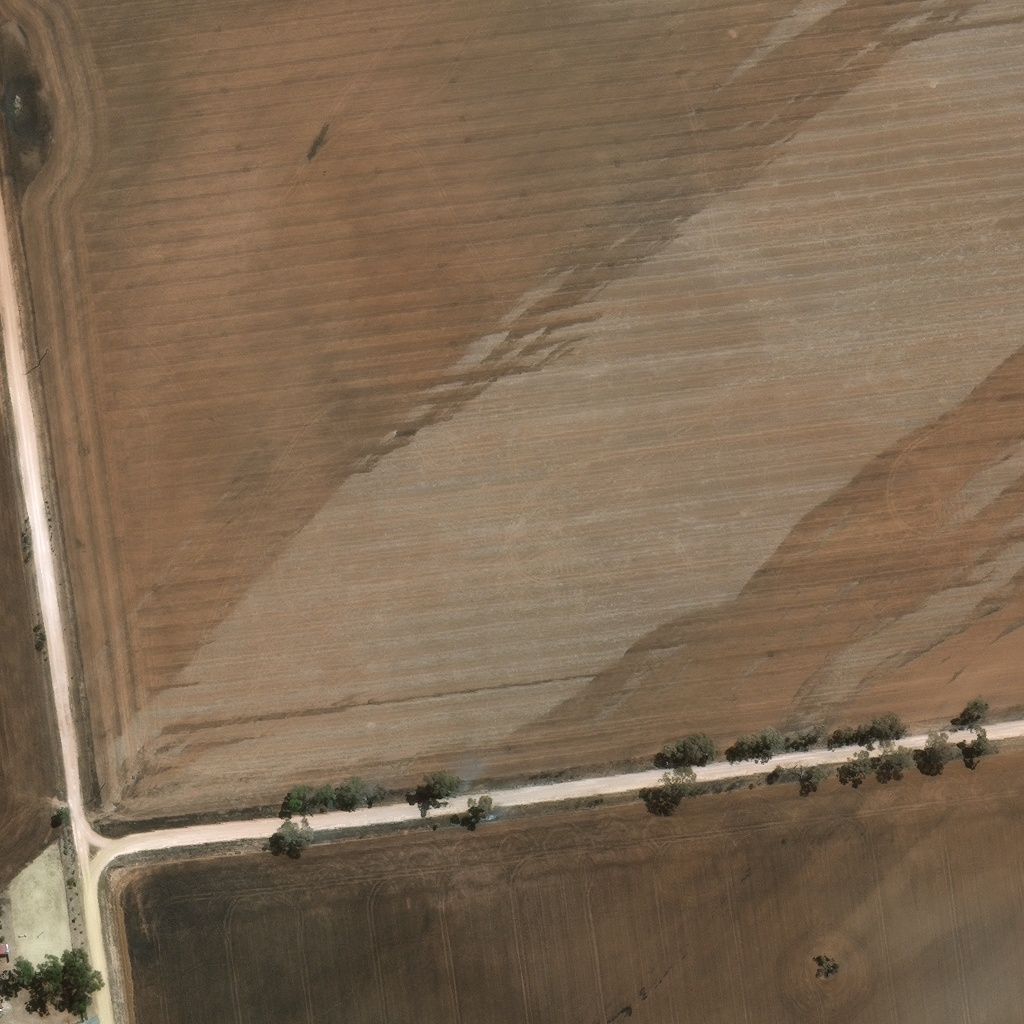0 no-damage: (0, 943, 6, 954), (6, 943, 10, 953)
